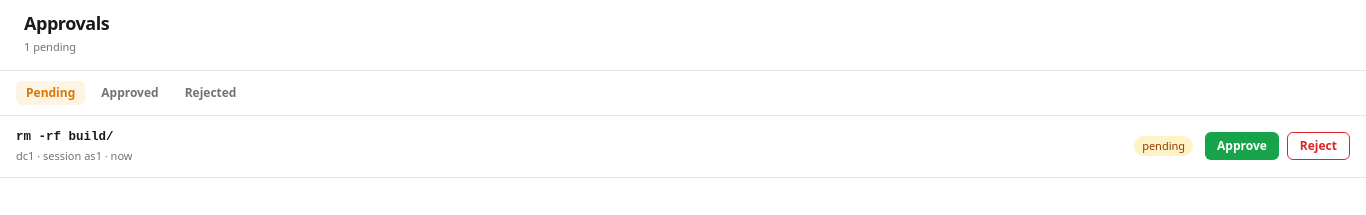
Test: Approvals action errors › shows a retry error and re-enables controls on a non-stale failure
expect the text "rm -rf build/" is shown: met, box left=16, top=130, right=114, bottom=144
Click the button "Approve" at (1242, 146), box left=1205, top=132, right=1279, bottom=160
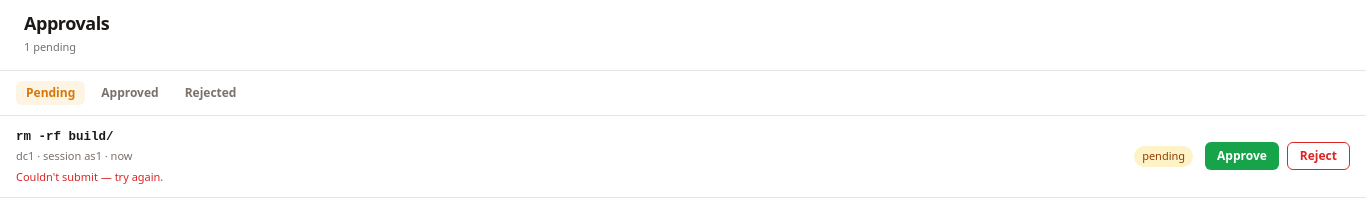
expect the button "Reject" is enabled: met, box left=1287, top=142, right=1350, bottom=170
expect the text "Couldn't submit — try again." is shown: met, box left=16, top=169, right=163, bottom=184
